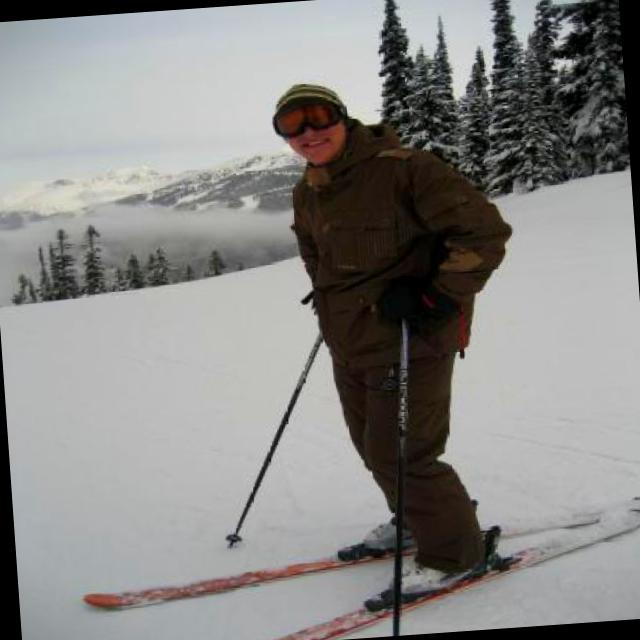Person: (268, 66, 539, 602)
